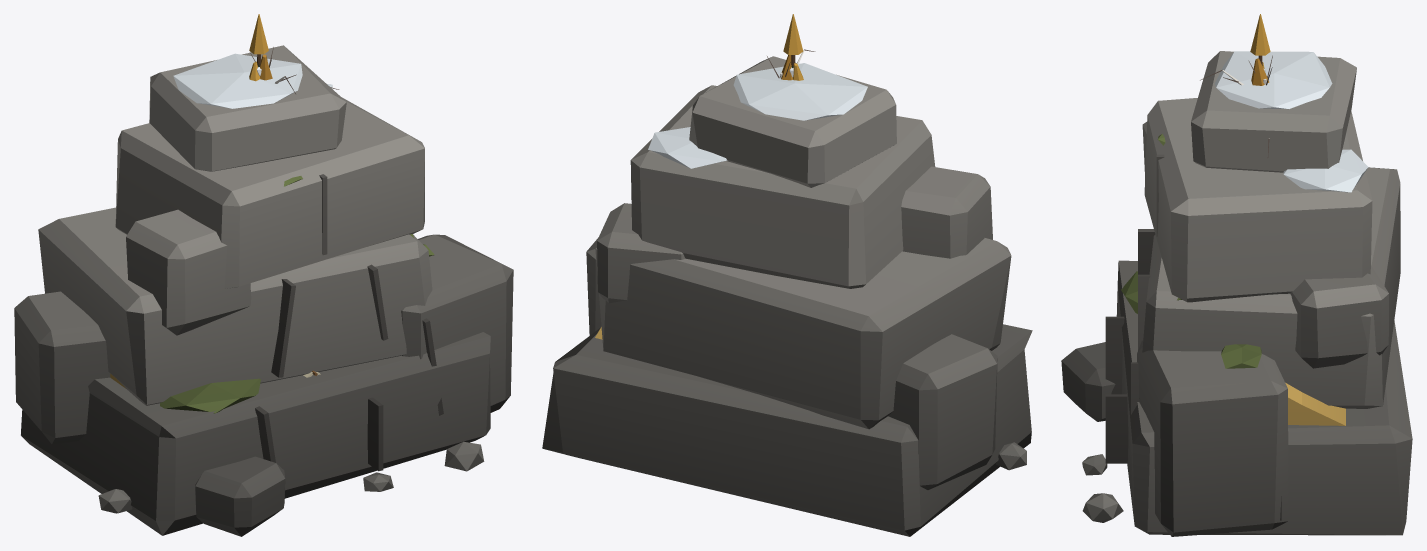
The model's file is cheongsan.glb.
The picture shows the model from 3 angles, left to right: view 1: azimuth 30°, elevation 25°; view 2: azimuth 150°, elevation 25°; view 3: azimuth 270°, elevation 25°; orthographic projection. The views are drawn at different scales.
Parts seen in each view (by area): view 1: cs_crag, cs_larch; view 2: cs_crag, cs_larch; view 3: cs_crag, cs_loghouse_b, cs_larch.
Boxes of the visible parts, bbox=[...] form: cs_crag: bbox=[14, 45, 513, 536]; cs_larch: bbox=[249, 14, 272, 81]; cs_crag: bbox=[542, 56, 1032, 536]; cs_larch: bbox=[780, 14, 803, 80]; cs_crag: bbox=[1061, 51, 1412, 536]; cs_loghouse_b: bbox=[1285, 382, 1345, 425]; cs_larch: bbox=[1250, 14, 1270, 85].
Size of the model in its own units: 10.86 by 10.62 by 7.6.
